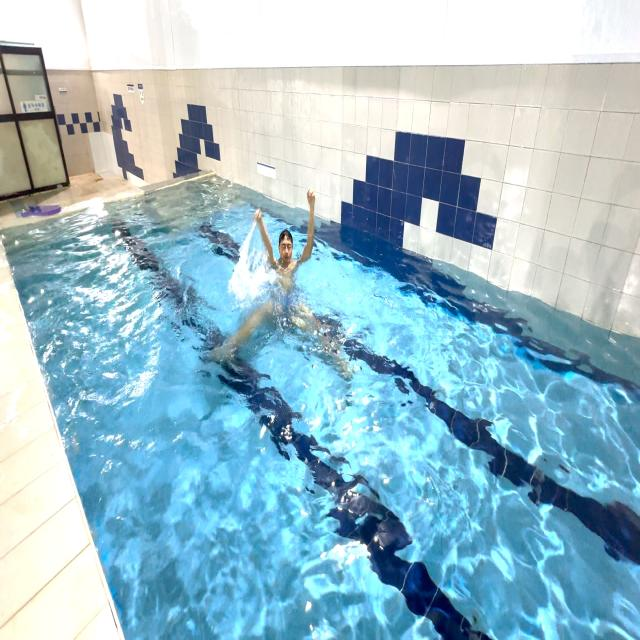Drowning: (215, 178, 350, 394)
